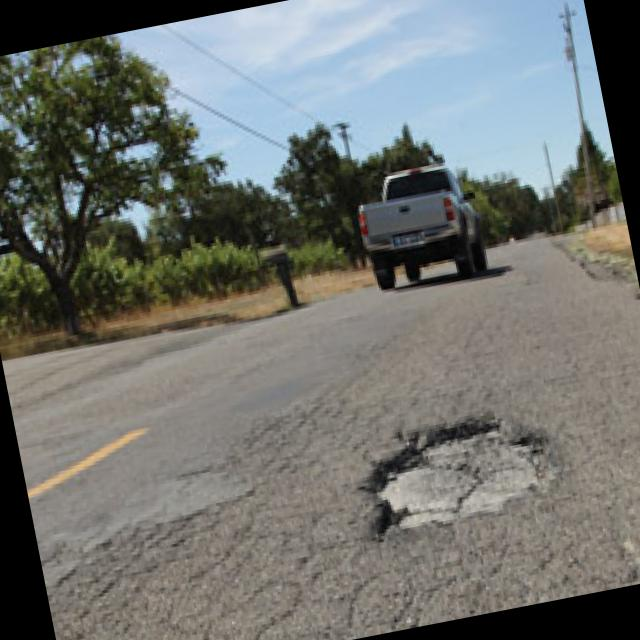Potholes: (339, 374, 576, 566)
